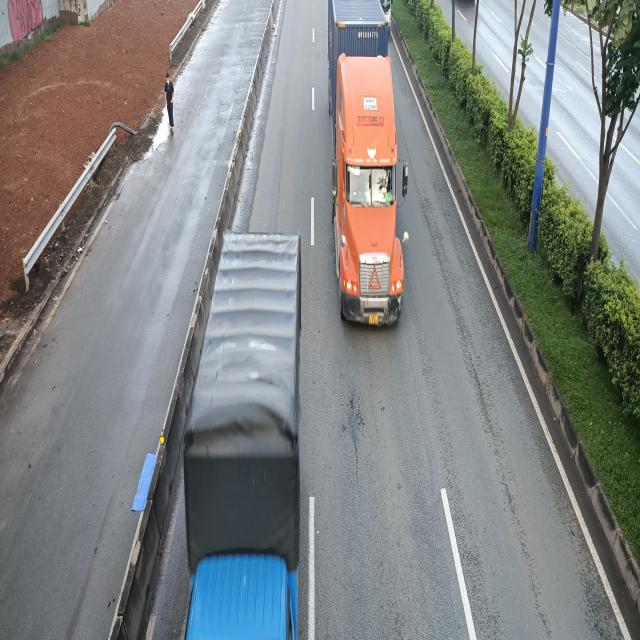container: (326, 0, 412, 329)
truck: (180, 230, 300, 640)
